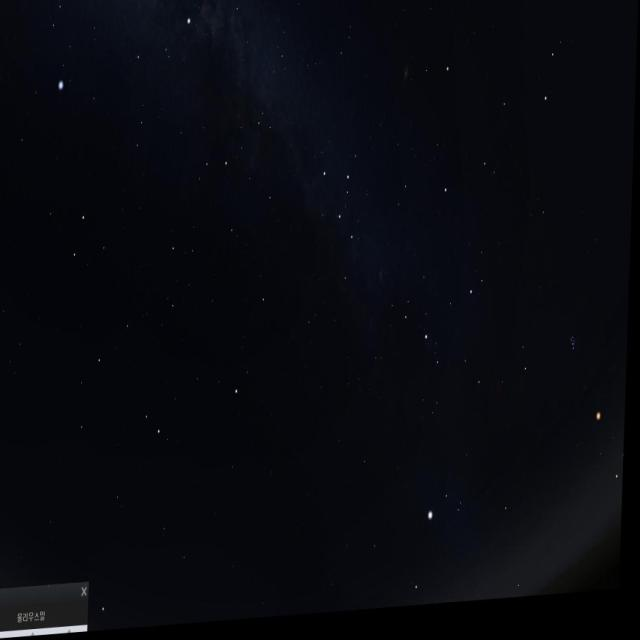cassiopeia: (318, 152, 377, 300)
pleiades: (569, 335, 589, 371)
